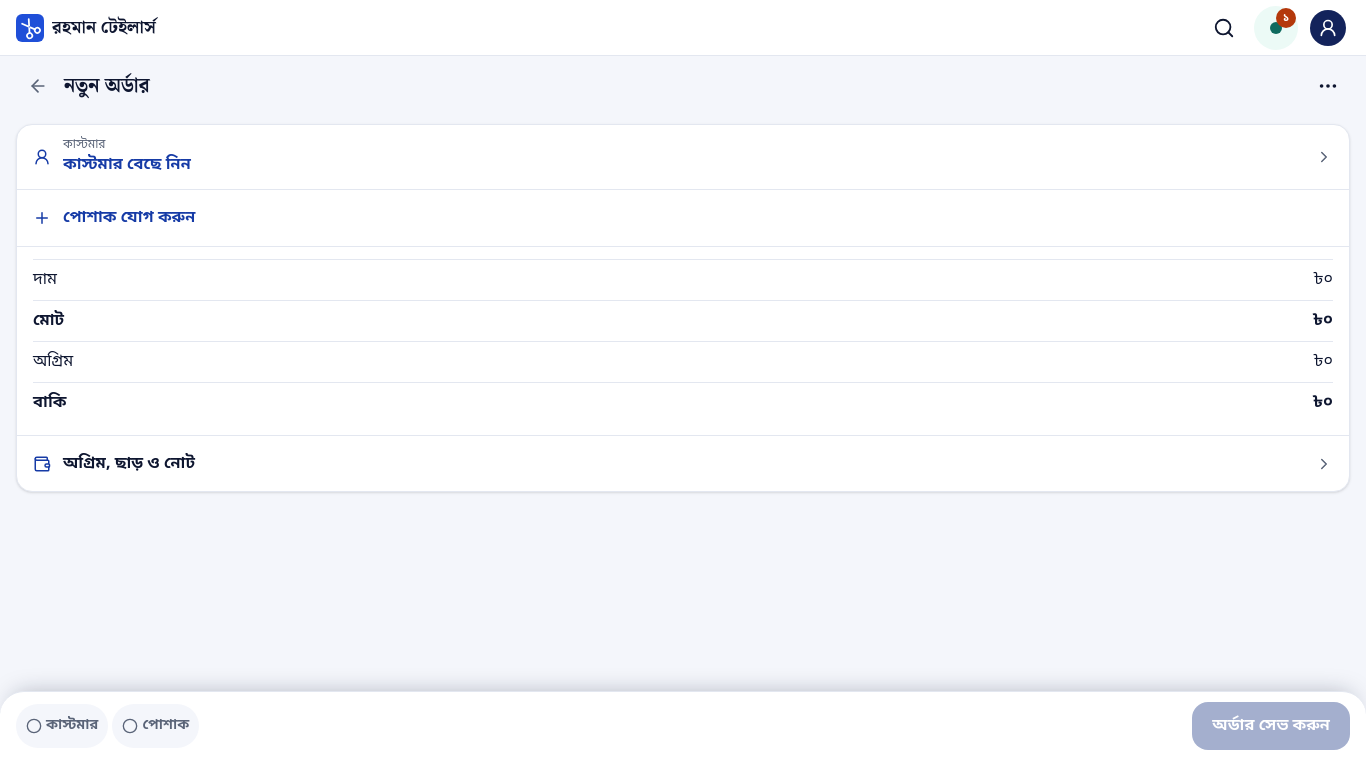
Test: Order entry on a phone › opens the customer when saving an empty order, and saves nothing
Expected: the heading "নতুন অর্ডার" is shown, [64,70,150,102]
Click the button "অর্ডার সেভ করুন": x=1271, y=726 [1192,702,1350,750]
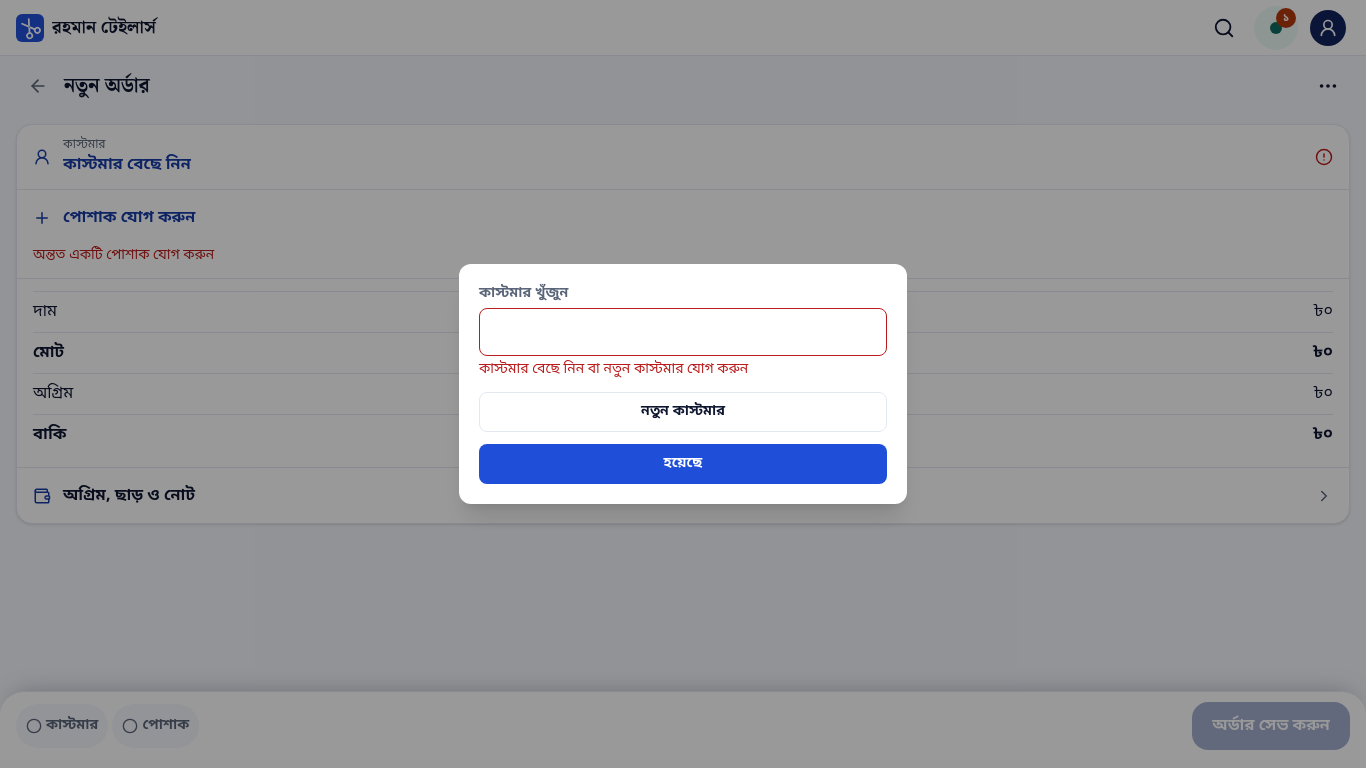
Now the dialog "কাস্টমার" is shown, box [459,264,907,504]
Now the text "কাস্টমার বেছে নিন বা নতুন কাস্টমার যোগ করুন" is shown, box [479,360,748,379]
